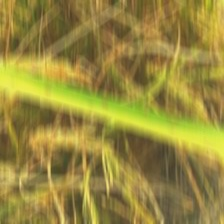Bacterial_Leaf_Blight: (162, 112, 184, 133), (198, 141, 216, 154), (4, 77, 17, 88), (42, 86, 57, 93), (101, 99, 112, 106)
